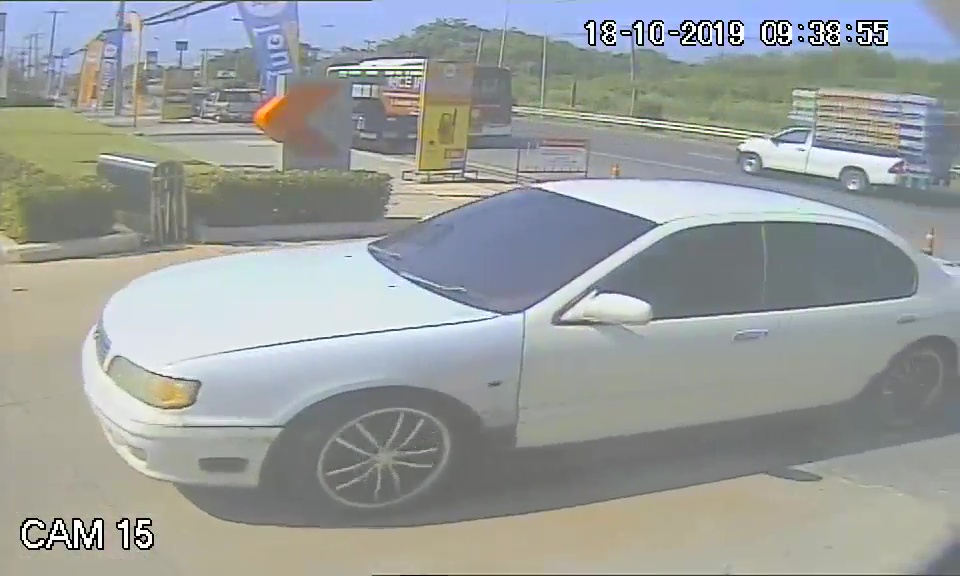sedan: (83, 177, 941, 512)
